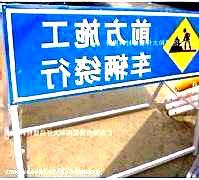sign: (7, 5, 199, 100)
